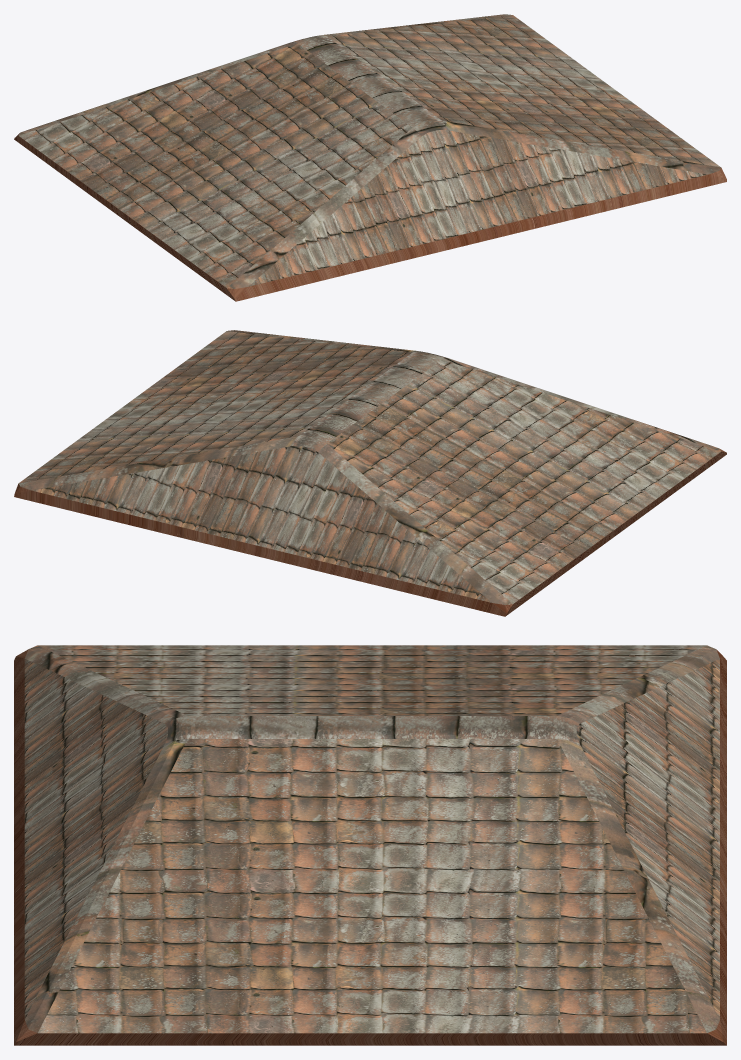
Rendered from R3_Genteng.fbx.
The picture shows the model from 3 angles, top to bottom: view 1: azimuth 30°, elevation 25°; view 2: azimuth 150°, elevation 25°; view 3: azimuth 270°, elevation 25°; orthographic projection. The views are drawn at different scales.
Visible parts, largest first — view 1: R3_Genteng; view 2: R3_Genteng; view 3: R3_Genteng.
Part boxes in pixels (bbox=[...]): R3_Genteng: bbox=[14, 14, 726, 301]; R3_Genteng: bbox=[14, 330, 726, 616]; R3_Genteng: bbox=[14, 645, 726, 1045].
Bounding box in the file's own units: 26.02 × 4.01 × 20.21.
2 materials, 2 textured.
